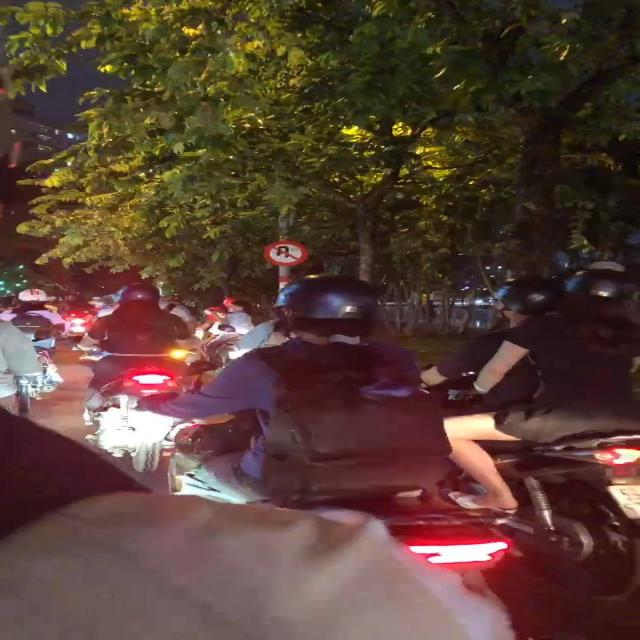Bien bao cam quay dau xe: (261, 239, 309, 266)
